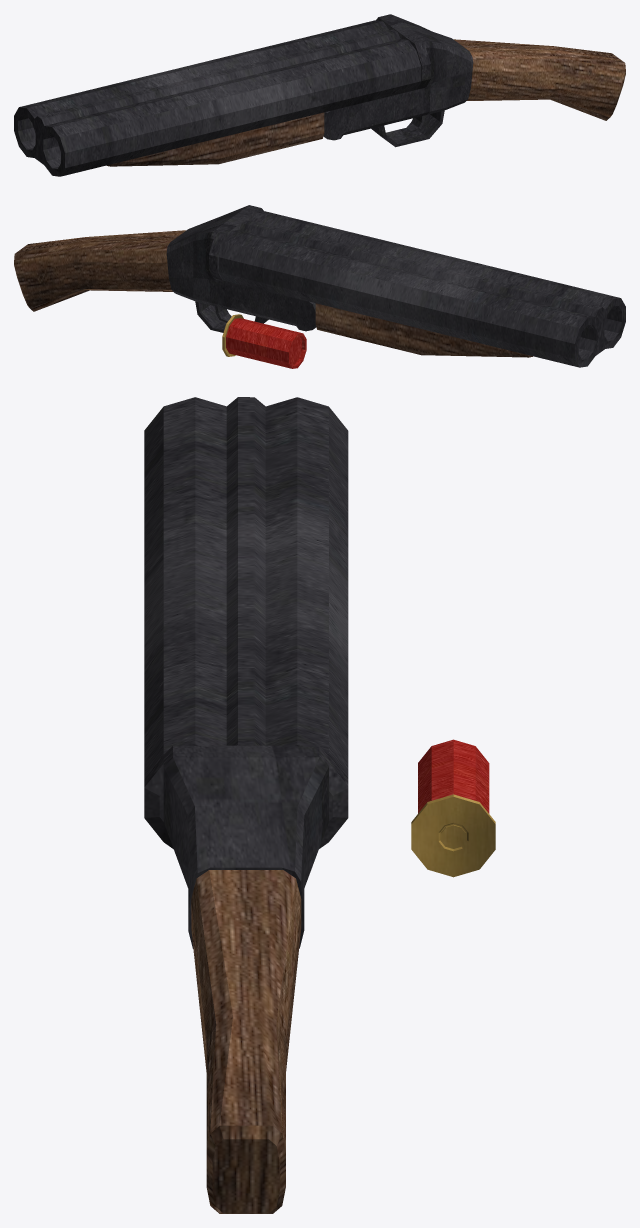
File: shotgun.fbx
3 renders of one model, top to bottom at view 1: azimuth 30°, elevation 25°; view 2: azimuth 150°, elevation 25°; view 3: azimuth 270°, elevation 25°, orthographic. The views are drawn at different scales.
Parts seen in each view (by area): view 1: ShothunBarrels, ShotgunStock; view 2: ShothunBarrels, ShotgunStock, Shels; view 3: ShothunBarrels, ShotgunStock, Shels.
Boxes of the visible parts, left/top/right/bottom form: ShothunBarrels: left=14, top=20, right=421, bottom=176; ShotgunStock: left=323, top=14, right=625, bottom=147; ShothunBarrels: left=218, top=211, right=625, bottom=367; ShotgunStock: left=14, top=205, right=316, bottom=332; Shels: left=222, top=314, right=306, bottom=368; ShothunBarrels: left=144, top=397, right=348, bottom=778; ShotgunStock: left=144, top=745, right=348, bottom=1213; Shels: left=411, top=739, right=495, bottom=877.
Bounding box in the file's own units: 131 × 29.21 × 34.45.
